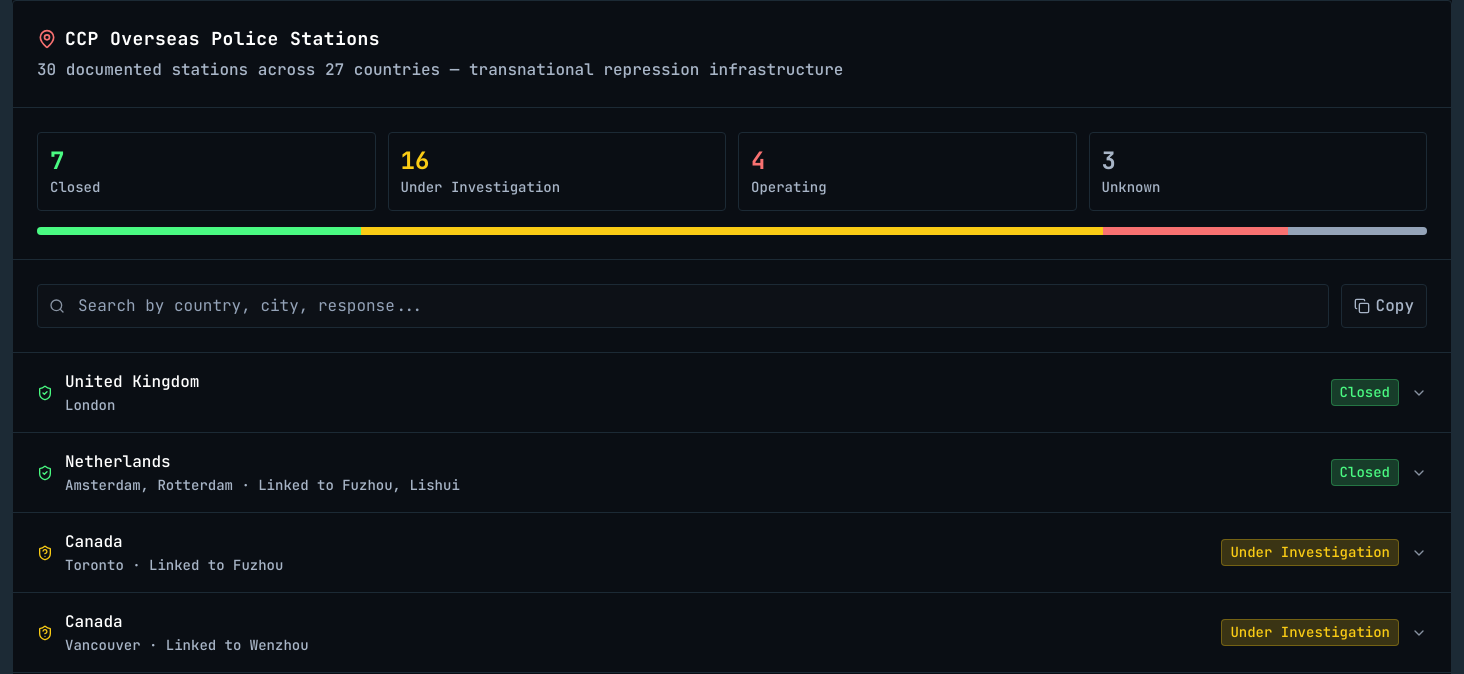
OverseasPoliceStationTracker › clicking a station expands its details
The image size is (1464, 674).
Click the button "United Kingdom London Closed" at (132, 382), box x1=13 y1=353 x2=1451 y2=432
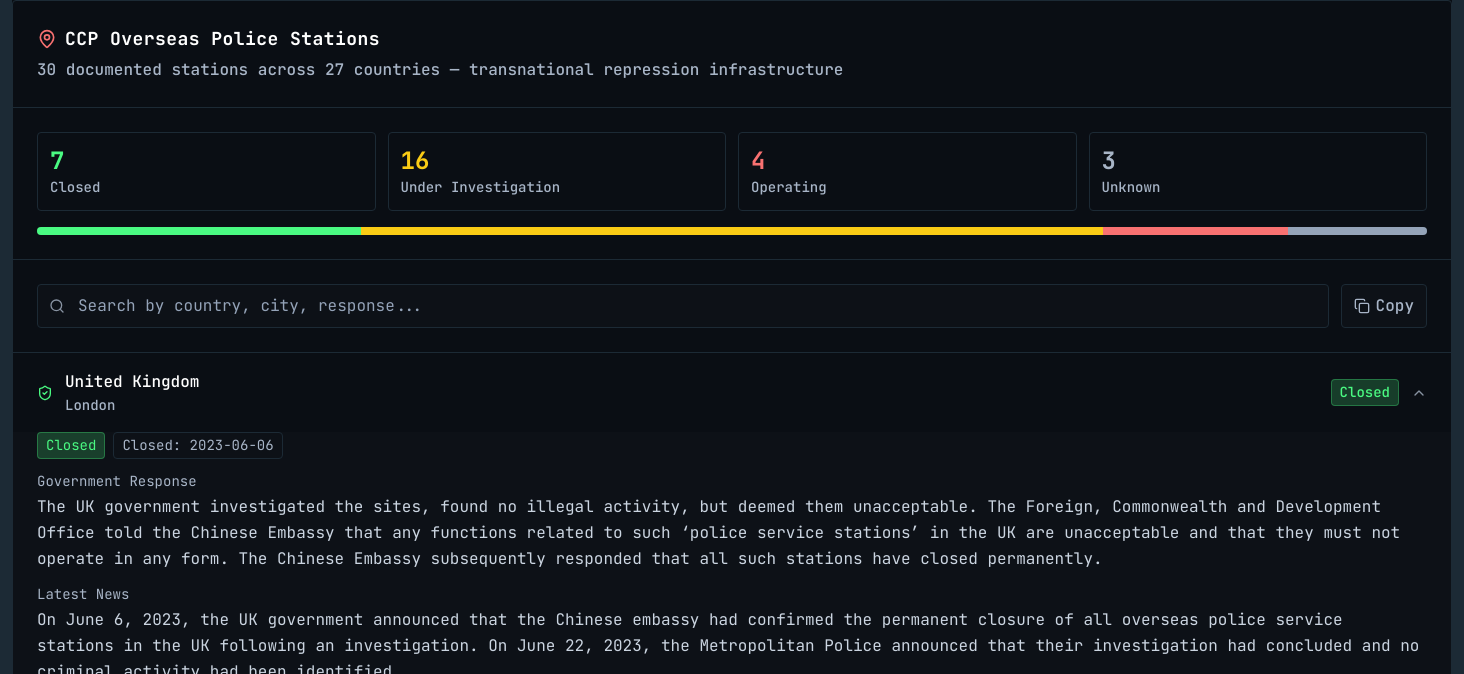
Result: the button "United Kingdom London Closed" is expanded at x1=13 y1=353 x2=1451 y2=432
